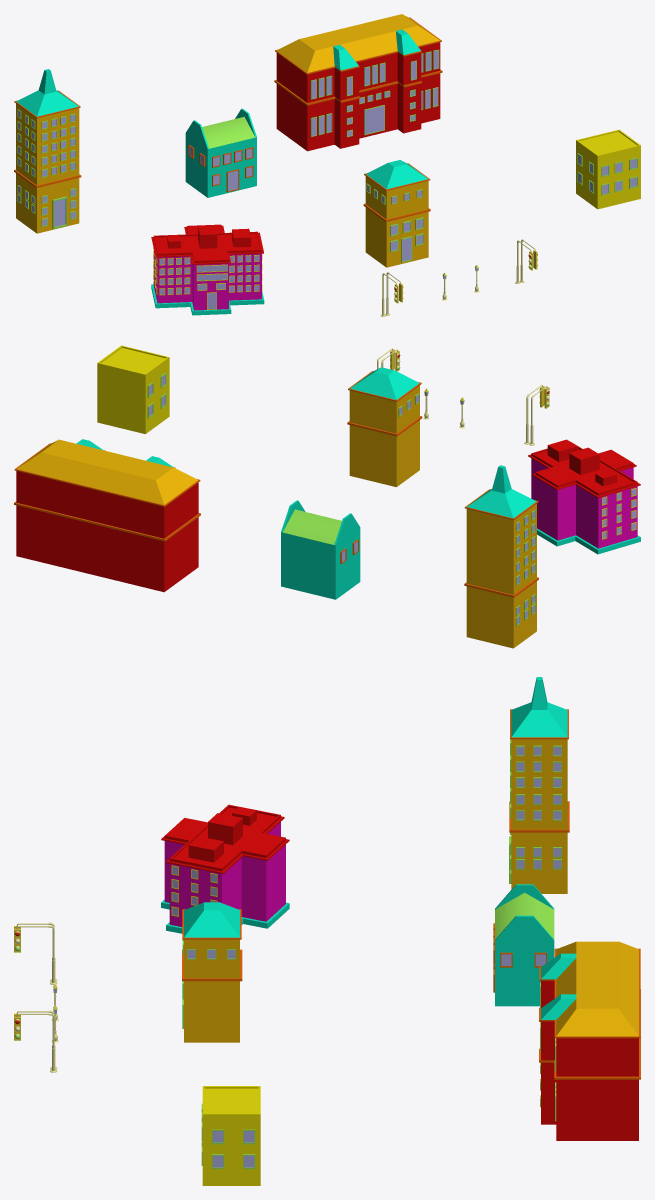
Rendered from House_Village.fbx.
3 renders of one model, top to bottom at view 1: azimuth 30°, elevation 25°; view 2: azimuth 150°, elevation 25°; view 3: azimuth 270°, elevation 25°, orthographic. The views are drawn at different scales.
Visible parts, largest first — view 1: pCube3, pCube5, pCube6, pCube2, pCube1, pCube4, pPlane45, pPlane157, polySurface1, polySurface2; view 2: pCube3, pCube6, pCube5, pCube2, pCube1, pCube4, polySurface1; view 3: pCube3, pCube5, pCube6, pCube2, pCube1, pCube4.
Part boxes in pixels (x1=…): pCube3: x1=274, y1=14, x2=442, y2=151; pCube5: x1=151, y1=224, x2=264, y2=315; pCube6: x1=14, y1=69, x2=81, y2=233; pCube2: x1=363, y1=160, x2=430, y2=267; pCube1: x1=185, y1=108, x2=256, y2=197; pCube4: x1=576, y1=129, x2=640, y2=209; pPlane45: x1=364, y1=105, x2=384, y2=135; pPlane157: x1=52, y1=196, x2=67, y2=229; polySurface1: x1=380, y1=272, x2=403, y2=316; polySurface2: x1=515, y1=239, x2=537, y2=283; pCube3: x1=14, y1=439, x2=200, y2=592; pCube6: x1=464, y1=465, x2=538, y2=648; pCube5: x1=528, y1=439, x2=640, y2=554; pCube2: x1=347, y1=367, x2=422, y2=487; pCube1: x1=281, y1=500, x2=360, y2=599; pCube4: x1=97, y1=345, x2=169, y2=434; polySurface1: x1=524, y1=385, x2=549, y2=445; pCube3: x1=539, y1=941, x2=640, y2=1140; pCube5: x1=161, y1=804, x2=289, y2=933; pCube6: x1=509, y1=677, x2=569, y2=893; pCube2: x1=182, y1=902, x2=242, y2=1042; pCube1: x1=495, y1=884, x2=554, y2=1006; pCube4: x1=202, y1=1086, x2=260, y2=1185.
Size of what is drawn, in the model's own units: 1145 by 336 by 946.
